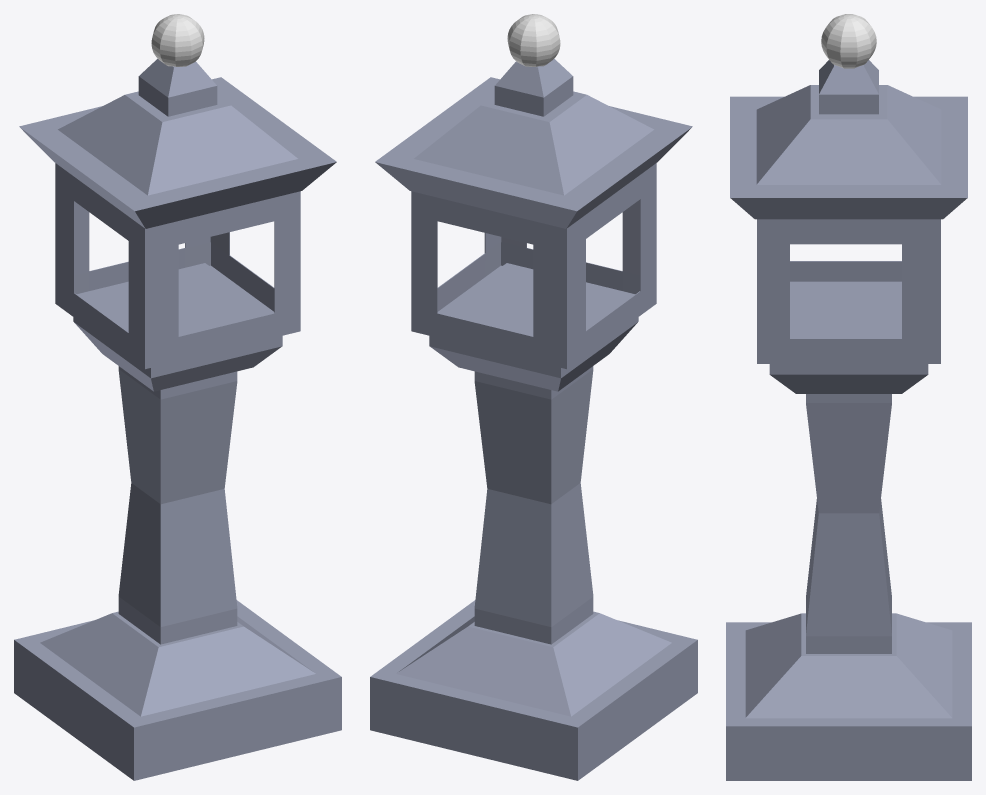
The model's file is Stone_Lantern.fbx.
3 views of the same model, side by side, from view 1: azimuth 30°, elevation 25°; view 2: azimuth 150°, elevation 25°; view 3: azimuth 270°, elevation 25° (orthographic). The views are drawn at different scales.
Visible parts, largest first — view 1: Cube.002, Cube.004, Cube, Cube.001, Cube.006, Cube.005, Cube.003, Cube.007, Sphere; view 2: Cube.002, Cube.004, Cube, Cube.001, Cube.006, Cube.005, Cube.003, Cube.007, Sphere; view 3: Cube.002, Cube, Cube.004, Cube.001, Cube.006, Cube.005, Cube.003, Cube.007, Sphere.
Part boxes in pixels (box(x1,y1,x2,y2)): Cube.002: box(118, 366, 237, 644); Cube.004: box(55, 163, 300, 369); Cube: box(14, 600, 341, 780); Cube.001: box(40, 611, 315, 716); Cube.006: box(58, 91, 297, 195); Cube.005: box(19, 77, 336, 228); Cube.003: box(73, 263, 282, 391); Cube.007: box(138, 58, 217, 116); Sphere: box(151, 14, 204, 66); Cube.002: box(474, 366, 593, 644); Cube.004: box(411, 163, 656, 369); Cube: box(370, 600, 697, 780); Cube.001: box(396, 611, 671, 716); Cube.006: box(414, 91, 653, 195); Cube.005: box(375, 77, 692, 228); Cube.003: box(429, 263, 638, 391); Cube.007: box(494, 58, 573, 116); Sphere: box(507, 14, 560, 66); Cube.002: box(806, 394, 891, 653); Cube: box(726, 622, 971, 780); Cube.004: box(757, 219, 940, 363); Cube.001: box(745, 613, 952, 718); Cube.006: box(756, 85, 941, 184); Cube.005: box(730, 96, 967, 219); Cube.003: box(769, 281, 928, 393); Cube.007: box(819, 60, 878, 114); Sphere: box(821, 14, 876, 68).
Bounding box in the file's own units: 200 × 640 × 200.
